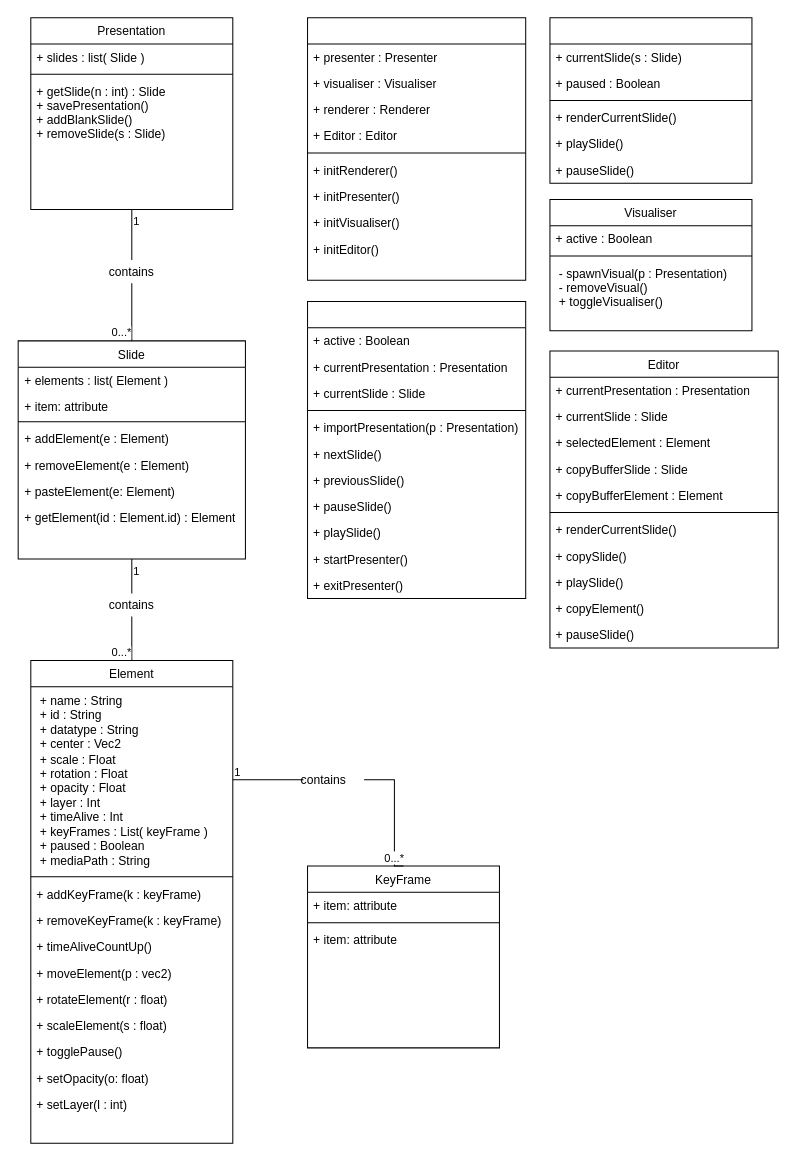
Image size: 796x1162. Some labels were removed from this diagram. The shapes that lost their labels are listed below. From the top down, each one's box as (x1, y1, x2, y2) in pixels, then its label:
(549, 17, 752, 183): Renderer
(307, 17, 526, 280): Master
(307, 300, 526, 598): Presenter (maybe own webpage)
